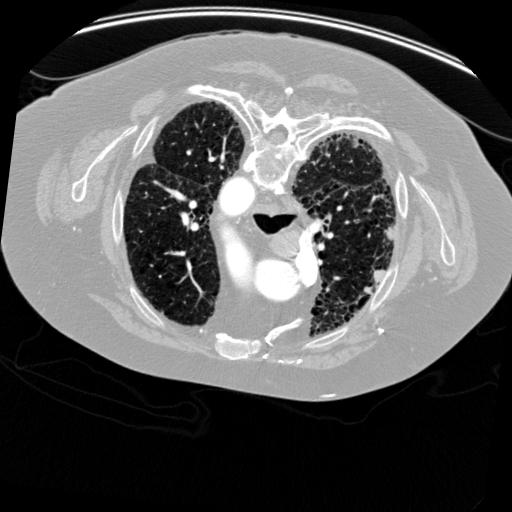nodule: (372, 268, 391, 287)
